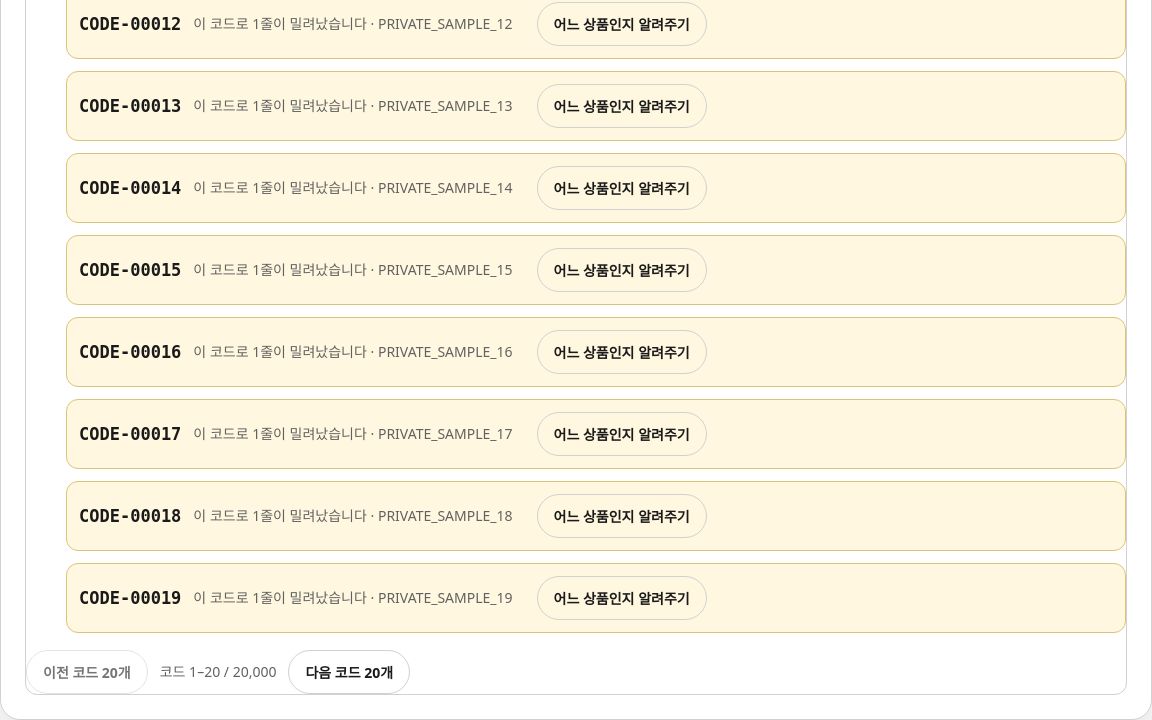
bounded quarantine teaching UI › renders 20 of 20,000 codes while preserving the total counts and page bounds
(page scrolled)
Check: the text "코드 1–20 / 20,000" is shown, box [160, 661, 276, 684]
Click the button "다음 코드 20개". click: (349, 672)
box: [288, 650, 410, 694]
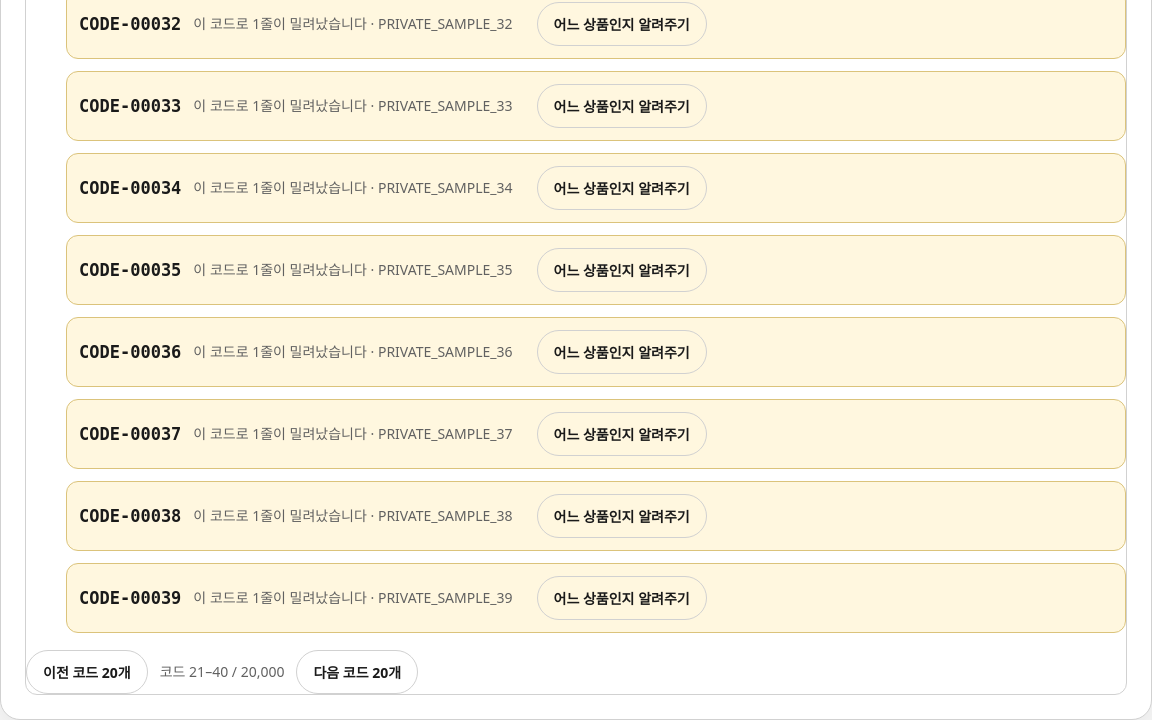
Check: the text "코드 21–40 / 20,000" is shown, box [160, 661, 284, 684]
